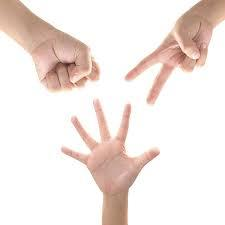paper: (55, 98, 161, 198)
rock: (22, 34, 104, 95)
scissors: (124, 4, 216, 106)
